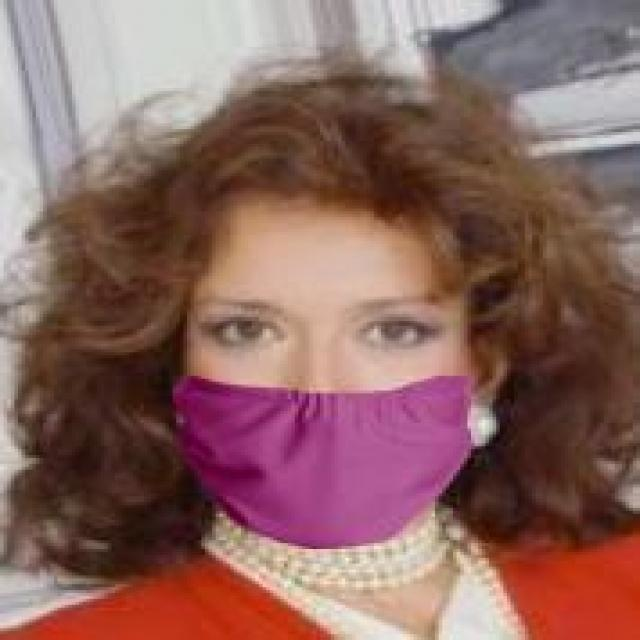mask: (90, 106, 640, 587)
